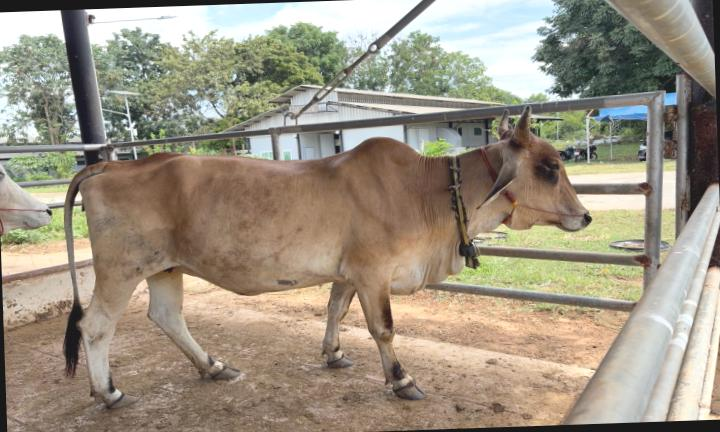Brahman: (65, 106, 591, 407)
